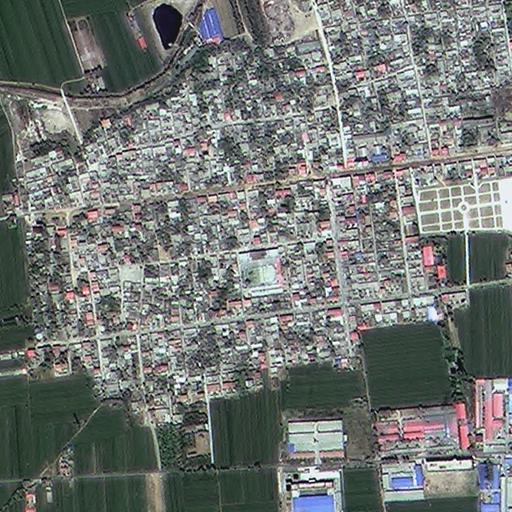school: (239, 243, 283, 292)
